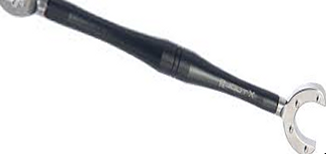wrench: (1, 1, 326, 154)
